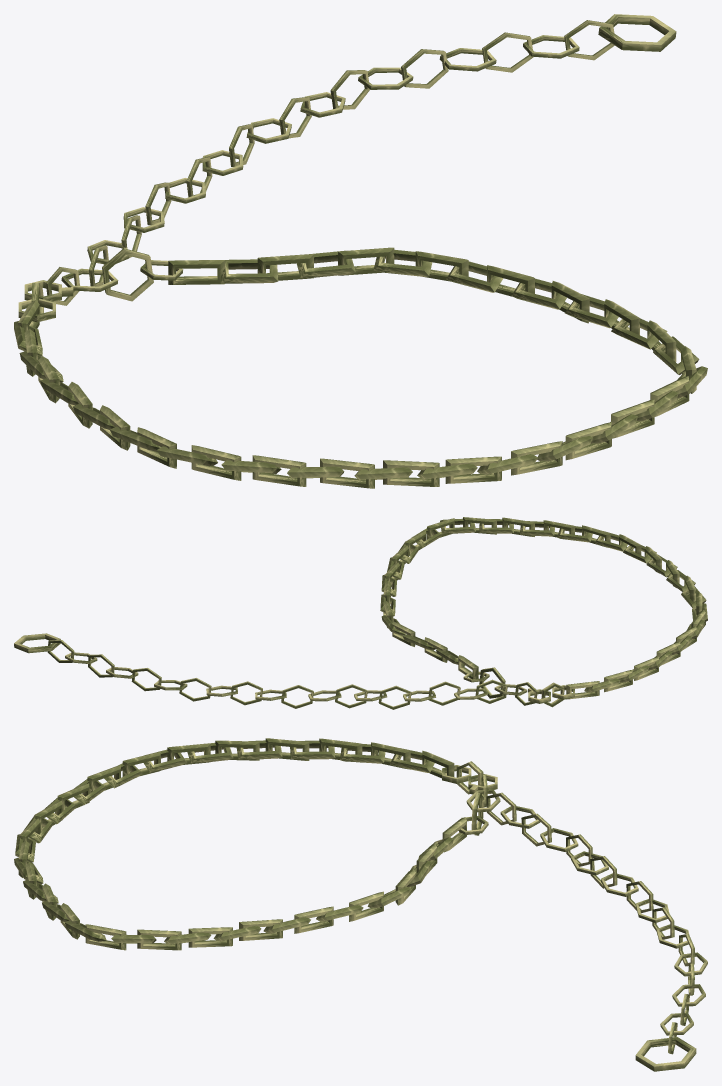
Rendered from Necklace2.fbx.
3 renders of one model, top to bottom at view 1: azimuth 30°, elevation 25°; view 2: azimuth 150°, elevation 25°; view 3: azimuth 270°, elevation 25°, orthographic. The views are drawn at different scales.
Parts seen in each view (by area): view 1: chainlink1 (×7), chainlink2 (×2), circlechain37, chainlink16, chainlink18, chainlink14, chainlink13, circlechain9, chainlink15, chainlink17, chainlink11, chainlink12 (+1 smaller); view 2: chainlink2 (×4), circlechain37, chainlink1, chainlink18; view 3: chainlink1 (×4), chainlink2 (×4), circlechain37, chainlink10.
Boxes of the visible parts, x1=… form: chainlink1 (×7): x1=191, y1=422, x2=611, y2=488; chainlink2 (×2): x1=511, y1=278, x2=618, y2=328; circlechain37: x1=598, y1=14, x2=676, y2=51; chainlink16: x1=221, y1=259, x2=278, y2=283; chainlink18: x1=168, y1=260, x2=225, y2=284; chainlink14: x1=296, y1=250, x2=355, y2=278; chainlink13: x1=373, y1=249, x2=432, y2=276; circlechain9: x1=102, y1=248, x2=153, y2=301; chainlink15: x1=257, y1=254, x2=313, y2=280; chainlink17: x1=338, y1=247, x2=394, y2=275; chainlink11: x1=446, y1=261, x2=503, y2=292; chainlink12: x1=415, y1=251, x2=468, y2=281; chainlink2 (×4): x1=440, y1=518, x2=592, y2=542; circlechain37: x1=14, y1=633, x2=60, y2=653; chainlink1: x1=566, y1=681, x2=599, y2=699; chainlink18: x1=458, y1=655, x2=478, y2=679; chainlink1 (×4): x1=85, y1=919, x2=282, y2=950; chainlink2 (×4): x1=236, y1=740, x2=434, y2=772; circlechain37: x1=635, y1=1037, x2=696, y2=1071; chainlink10: x1=294, y1=906, x2=333, y2=933.
Size of the model in its own units: 167 by 9.81 by 152.
